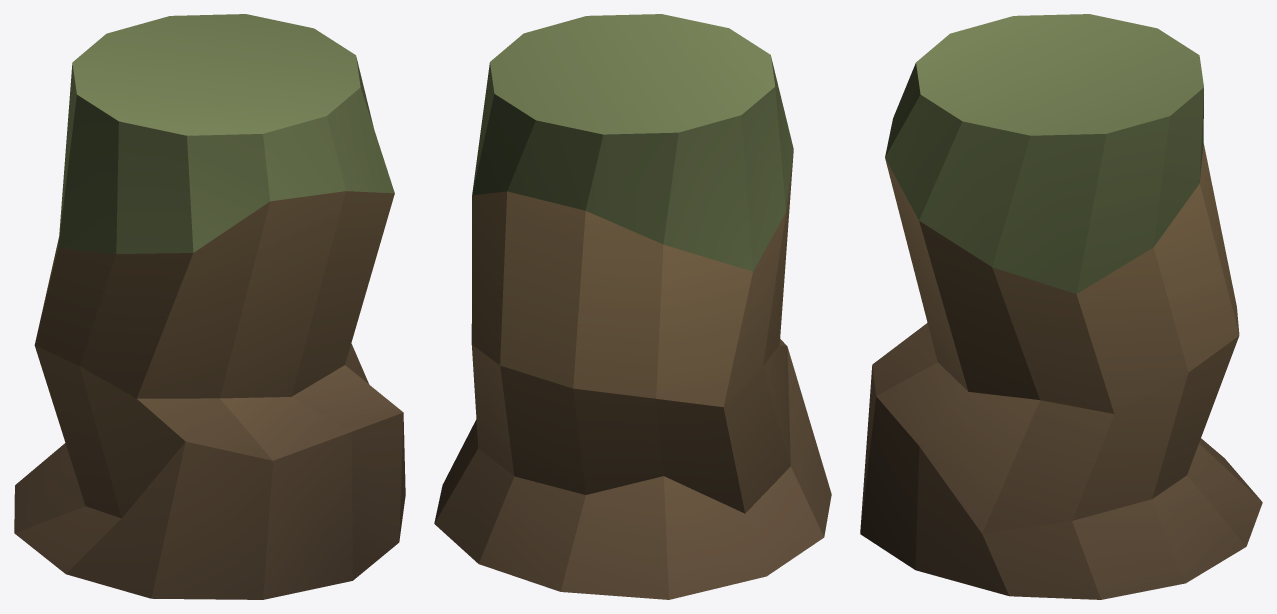
The model's file is Pedra Lago.fbx.
The picture shows the model from 3 angles, left to right: view 1: azimuth 30°, elevation 25°; view 2: azimuth 150°, elevation 25°; view 3: azimuth 270°, elevation 25°; orthographic projection.
Visible parts, largest first — view 1: Lake Stone; view 2: Lake Stone; view 3: Lake Stone.
Part boxes in pixels (x1=…): Lake Stone: x1=14, y1=14, x2=405, y2=599; Lake Stone: x1=434, y1=14, x2=831, y2=599; Lake Stone: x1=860, y1=14, x2=1262, y2=599.
Bounding box in the file's own units: 194 × 238 × 197.
